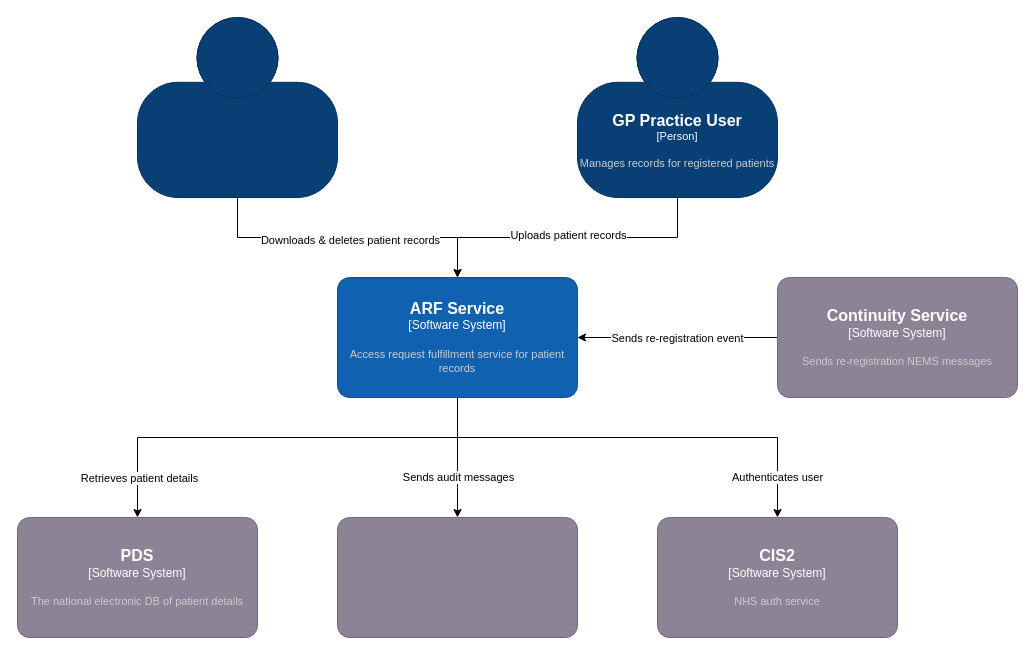
Some shapes in this 1035 by 655 pixel diagram are drawn without their labels. The shapes that lost their labels are listed below. From the top down, each one's box as (x1, y1, x2, y2) in pixels, then its label:
(136, 16, 338, 198): PCSE User [Person] Manages records for patients with no active GP
(336, 516, 578, 638): Splunk [Software System] Monitoring tool used for auditing key events
